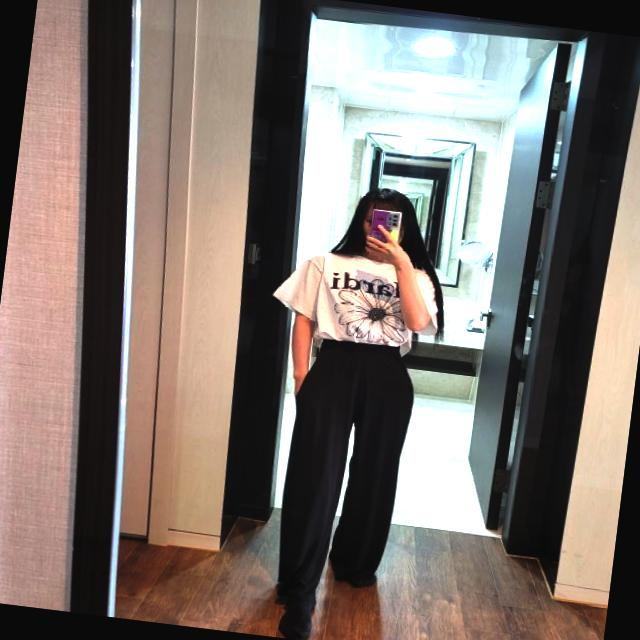shortsleeve: (264, 241, 443, 359)
slacks: (268, 332, 416, 613)
